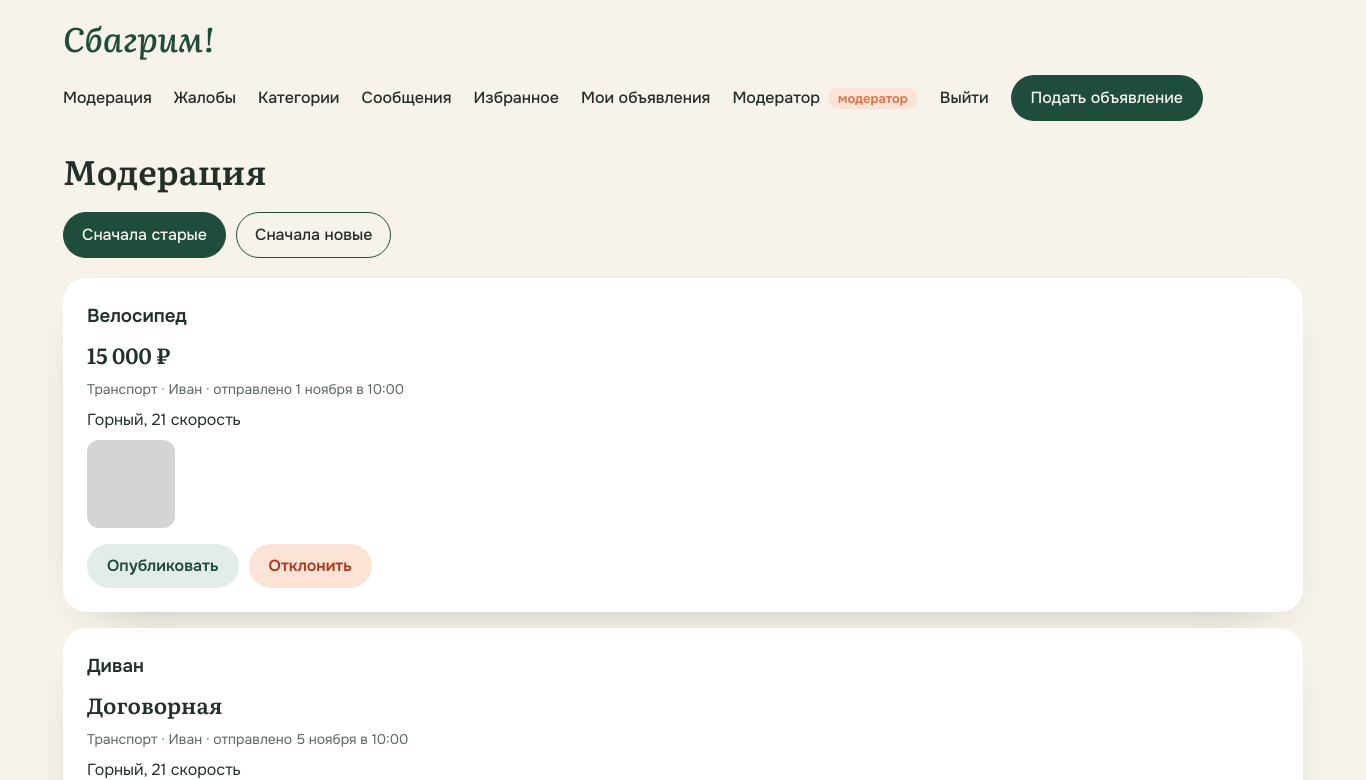
модерация › публикует: решение уходит на сервер, объявление пропадает
Click the button "Опубликовать". click: (163, 566)
box: top-left (87, 544), bottom-right (238, 588)
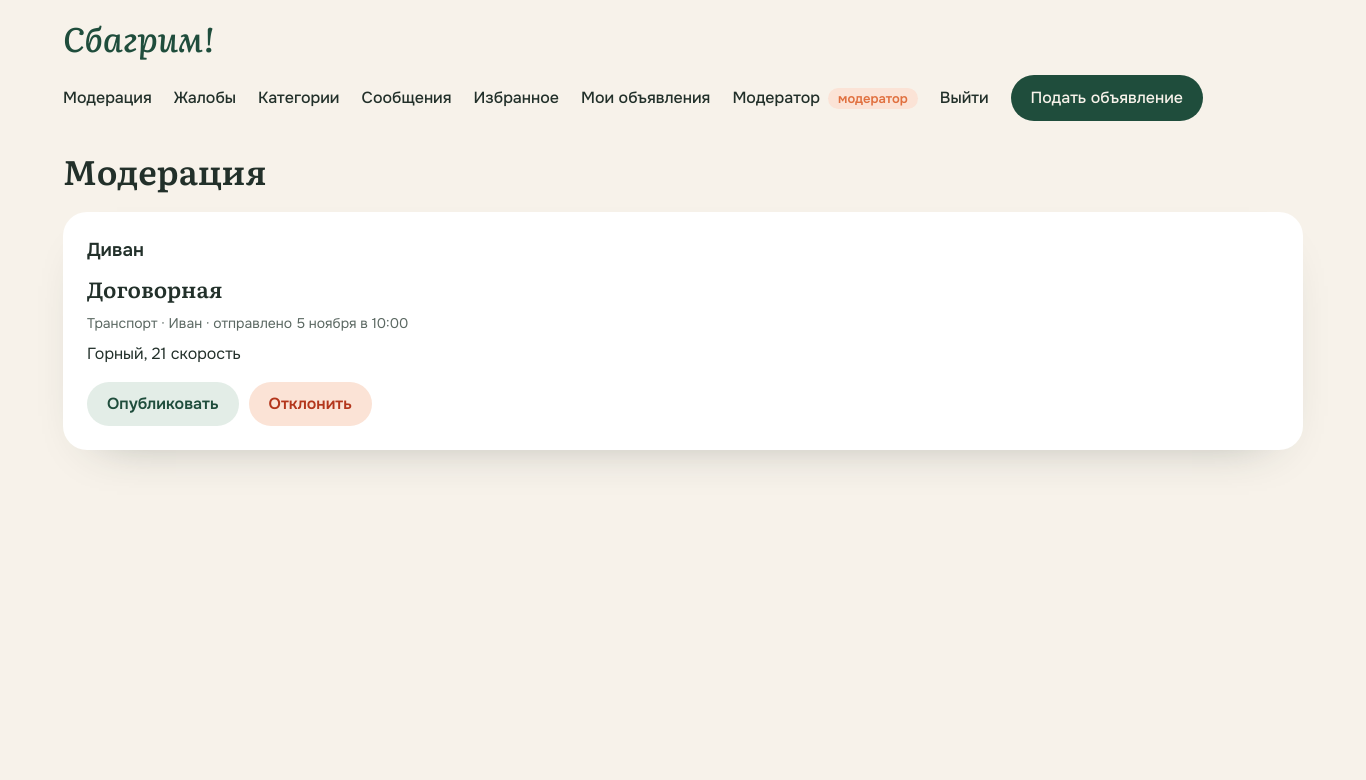
Check: the heading "Диван" is shown, box top-left (87, 238), bottom-right (144, 262)
Check: the heading "Велосипед" is gone
